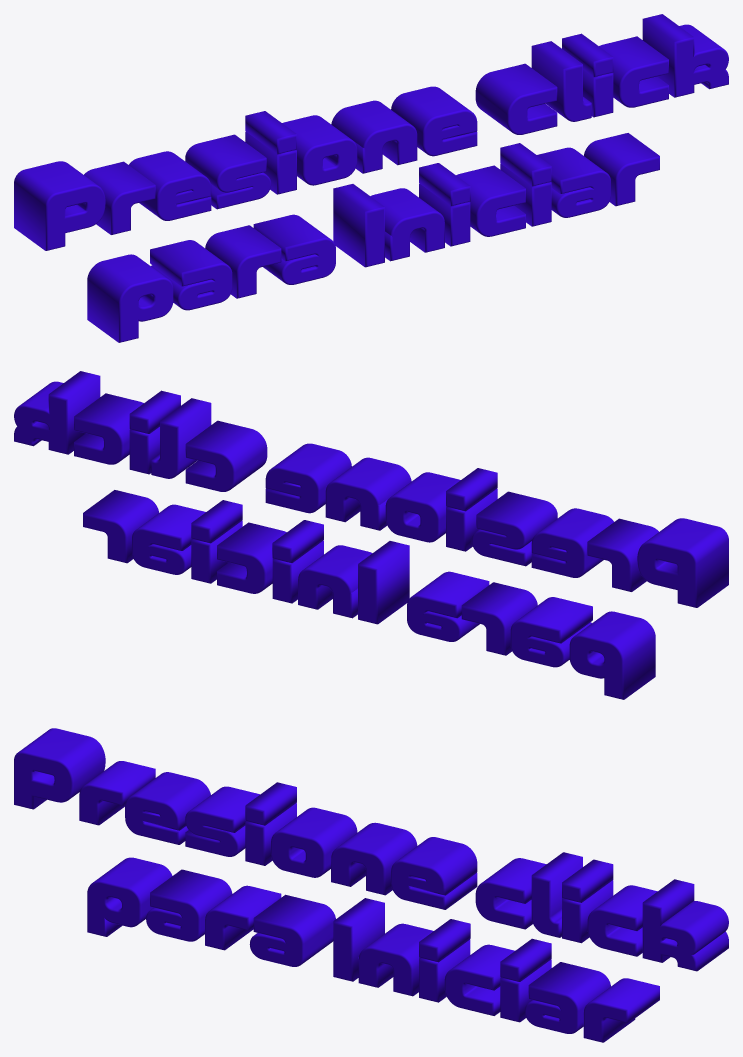
Rendered from presione_click.glb.
3 views of the same model, one above another, from view 1: azimuth 30°, elevation 25°; view 2: azimuth 150°, elevation 25°; view 3: azimuth 330°, elevation 25° (orthographic).
Visible parts, largest first — view 1: presione_click; view 2: presione_click; view 3: presione_click.
Part boxes in pixels (box(x1,y1,x2,y2)): presione_click: box(14, 14, 728, 342); presione_click: box(14, 371, 728, 699); presione_click: box(14, 728, 728, 1042).
Bounding box in the file's own units: 7.59 × 1.76 × 0.64.
